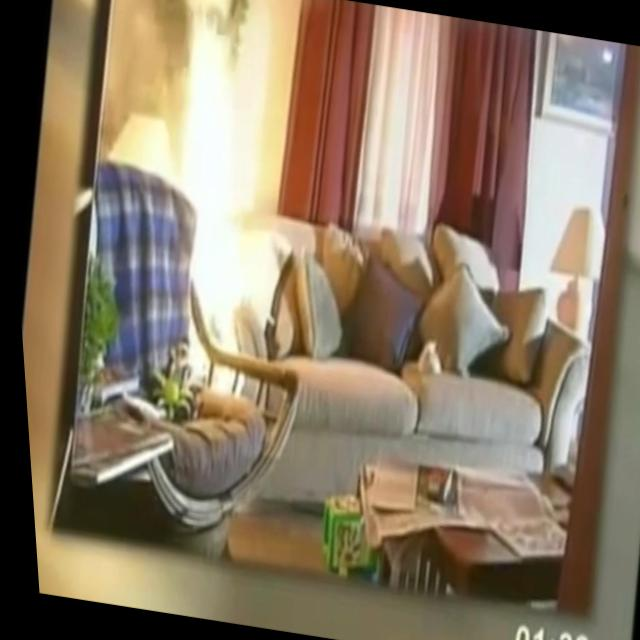fire: (110, 0, 294, 391)
